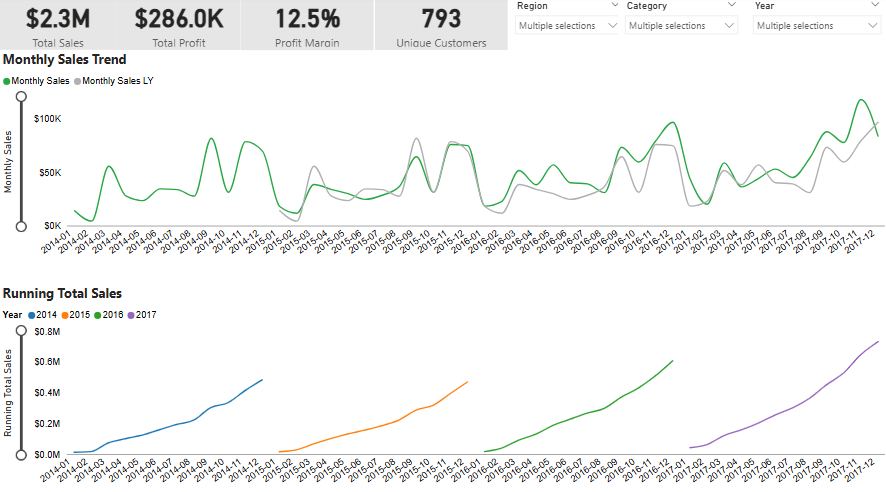

What the dashboard file says about the page in this screenshot:
{"tool":"powerbi","page":{"name":"Page 1","canvas":[1280,720],"ordinal":0},"visuals":[{"type":"card","fields":{"Values":["superstoresales_clean.Total Sales"]},"box":[0,0,169.9,90.7],"z":0},{"type":"card","fields":{"Values":["superstoresales_clean.Total Profit"]},"box":[169.9,0,178.6,90.7],"z":1000},{"type":"card","fields":{"Values":["superstoresales_clean.Unique Customers"]},"box":[540,0,191.5,90.7],"z":2000},{"type":"lineChart","title":"Total Sales over Time","fields":{"Y":["superstoresales_clean.Monthly Sales LY","superstoresales_clean.Total Sales"],"Category":["DateTable.Year-Month"]},"box":[0,90.7,1280.2,301],"z":3000},{"type":"lineChart","title":"Cumulative Total Sales (YTD)","fields":{"Category":["DateTable.Year-Month"],"Y":["superstoresales_clean.Running Total Sales"],"Series":["DateTable.Year"]},"box":[0,391.7,1280.2,328.3],"z":4000},{"type":"card","fields":{"Values":["superstoresales_clean.Profit Margin"]},"box":[348.5,0,191.5,90.7],"z":5000},{"type":"slicer","fields":{"Values":["DateTable.Year"]},"box":[743,0,177.1,77.8],"z":6000},{"type":"slicer","fields":{"Values":["superstoresales_clean.Region"]},"box":[920.2,0,184.3,85],"z":7000},{"type":"slicer","fields":{"Values":["superstoresales_clean.Category"]},"box":[1104.5,0,175.7,77.8],"z":8000}]}

Visuals, with their boxes in screenshot pixels (x1, y1, x2, y2), scaled from the page's 1280x720 canvas onto the 886x492 screenshot:
card - superstoresales_clean.Total Sales: x1=0 y1=0 x2=118 y2=62
card - superstoresales_clean.Total Profit: x1=118 y1=0 x2=241 y2=62
card - superstoresales_clean.Unique Customers: x1=374 y1=0 x2=506 y2=62
"Total Sales over Time" lineChart: x1=0 y1=62 x2=885 y2=268
"Cumulative Total Sales (YTD)" lineChart: x1=0 y1=268 x2=885 y2=491
card - superstoresales_clean.Profit Margin: x1=241 y1=0 x2=374 y2=62
slicer - DateTable.Year: x1=514 y1=0 x2=637 y2=53
slicer - superstoresales_clean.Region: x1=637 y1=0 x2=765 y2=58
slicer - superstoresales_clean.Category: x1=765 y1=0 x2=885 y2=53
